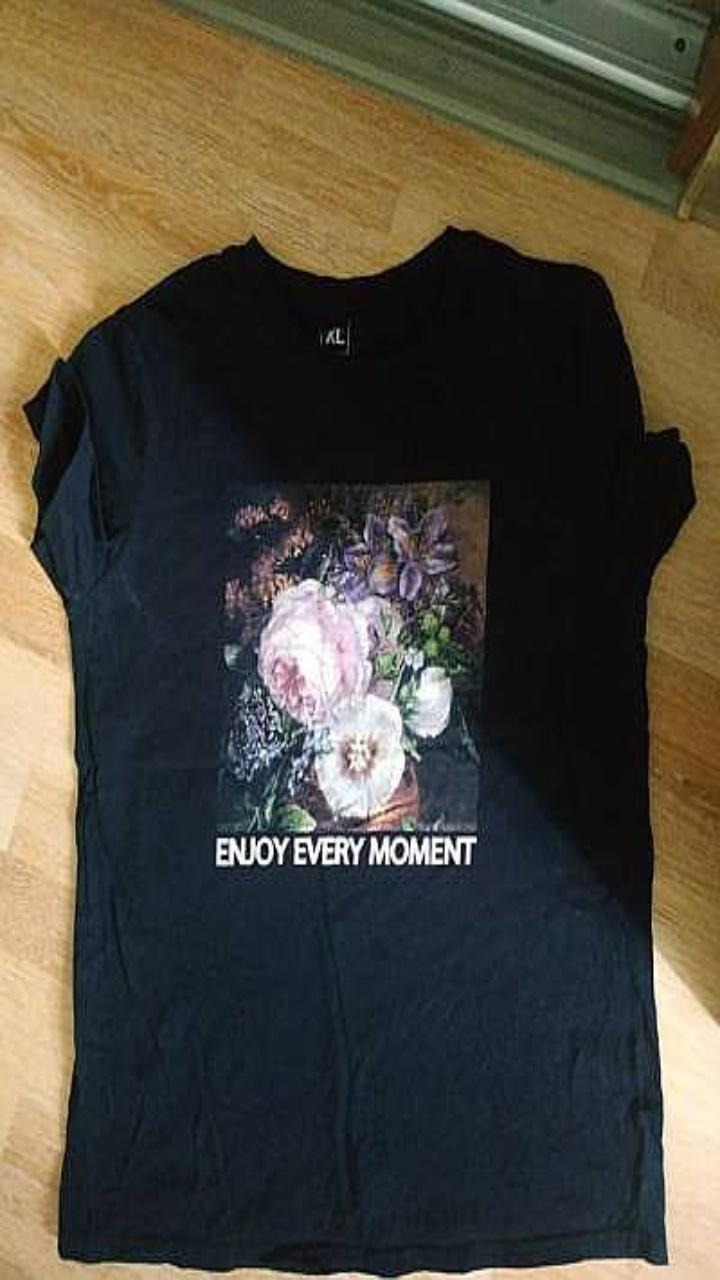T-Shirt: (23, 225, 695, 1275)
